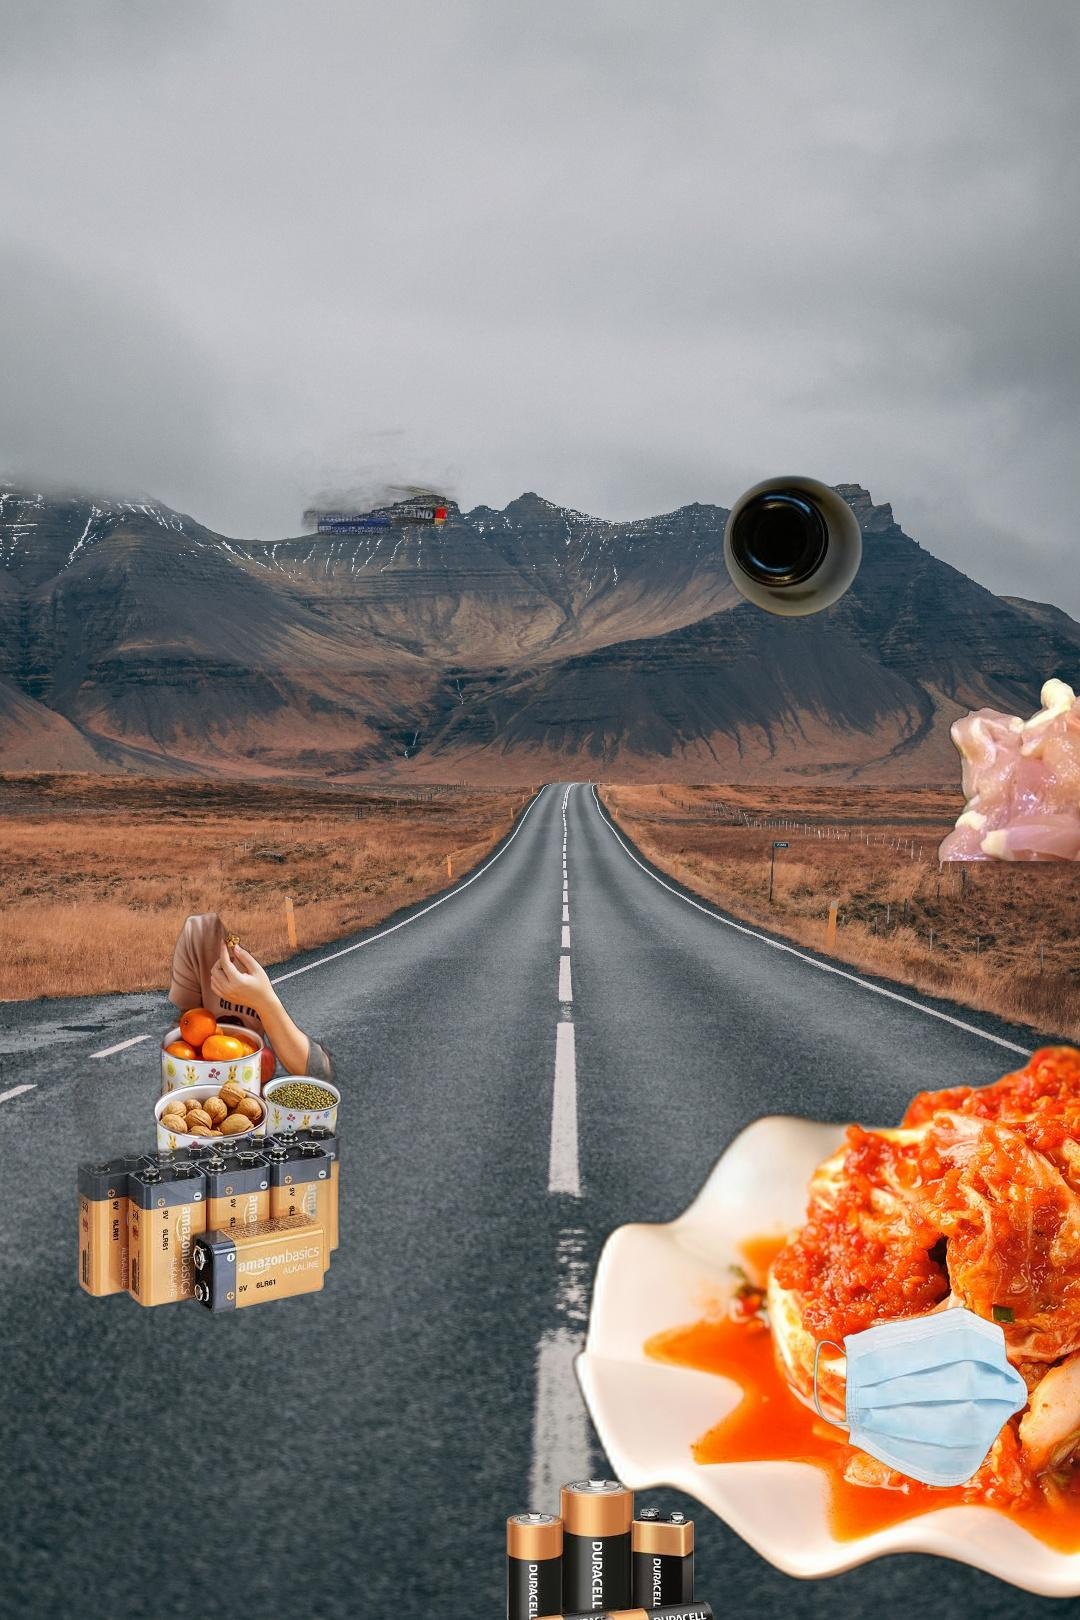battery: (77, 1125, 341, 1315), (250, 372, 518, 552), (504, 1475, 716, 1620)
biological: (564, 982, 1080, 1607), (54, 912, 353, 1210), (932, 675, 1080, 861)
glass: (720, 472, 867, 620)
trash: (811, 1304, 1031, 1490)
